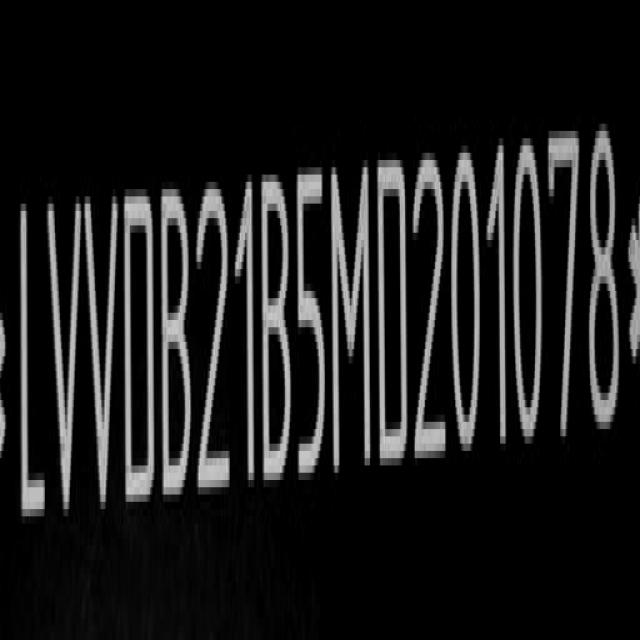0: (514, 132, 545, 454), (452, 144, 482, 462)
1: (234, 174, 256, 506), (486, 138, 507, 458)
2: (414, 148, 449, 476), (200, 184, 233, 513)
5: (297, 161, 328, 492)
7: (550, 123, 584, 450)
8: (590, 120, 621, 440)
B: (162, 187, 195, 516), (261, 170, 293, 497)
D: (379, 152, 415, 482), (125, 186, 158, 516)
L: (16, 197, 48, 541)
M: (332, 162, 372, 487)
V: (44, 191, 81, 534), (86, 187, 120, 528)
